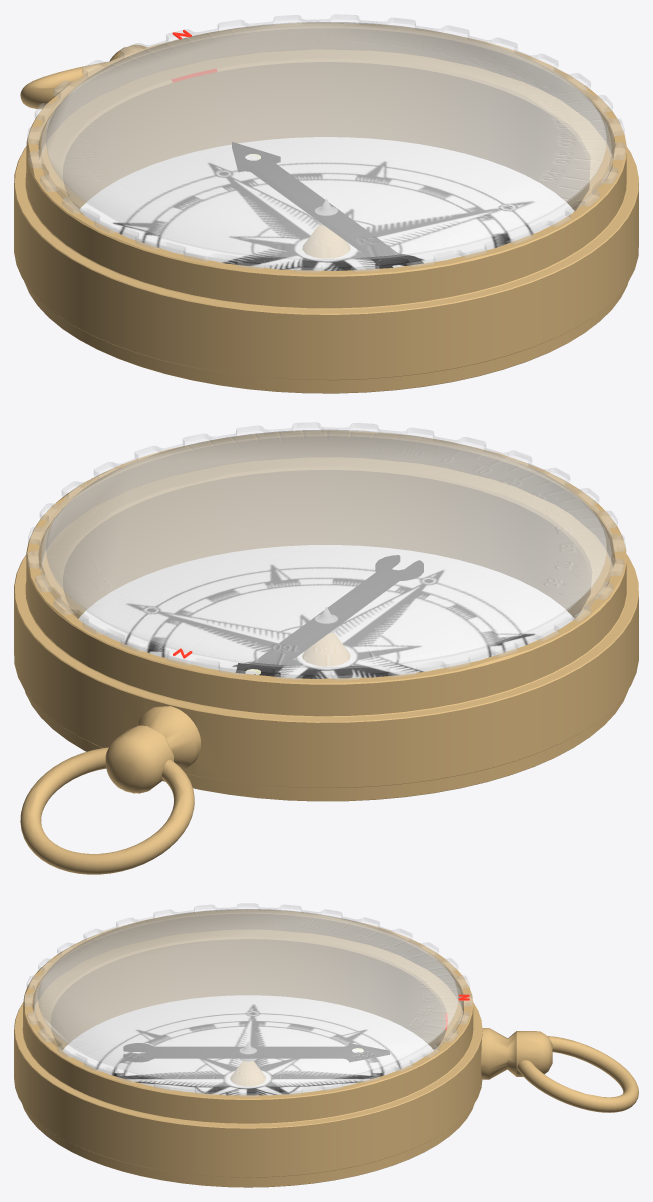
Rendered from kompass.glb.
3 renders of one model, top to bottom at view 1: azimuth 30°, elevation 25°; view 2: azimuth 150°, elevation 25°; view 3: azimuth 270°, elevation 25°, orthographic. The views are drawn at different scales.
Parts seen in each view (by area): view 1: compass housing_1, rotating cylinder_3, needle_4, ring_2; view 2: compass housing_1, rotating cylinder_3, ring_2, needle_4; view 3: compass housing_1, rotating cylinder_3, ring_2, needle_4.
Boxes of the visible parts, bbox=[...] form: compass housing_1: bbox=[14, 22, 638, 393]; rotating cylinder_3: bbox=[27, 14, 625, 272]; needle_4: bbox=[232, 142, 423, 268]; ring_2: bbox=[20, 61, 108, 109]; compass housing_1: bbox=[14, 430, 638, 801]; rotating cylinder_3: bbox=[27, 422, 625, 680]; ring_2: bbox=[20, 747, 194, 874]; needle_4: bbox=[236, 555, 423, 676]; compass housing_1: bbox=[14, 909, 552, 1187]; rotating cylinder_3: bbox=[24, 903, 472, 1096]; ring_2: bbox=[517, 1036, 638, 1112]; needle_4: bbox=[123, 1042, 389, 1061].
Size of the model in its own units: 51.25 by 12.38 by 68.35.
Materials: 8 (2 with a texture image).
